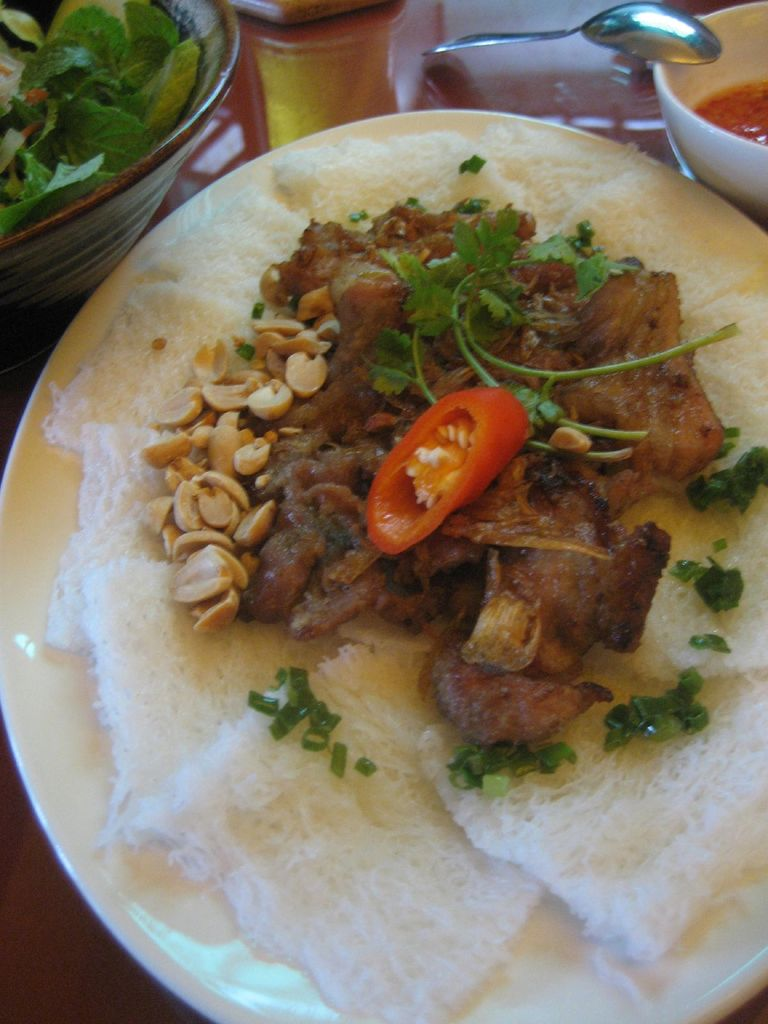taco: (59, 106, 705, 949)
